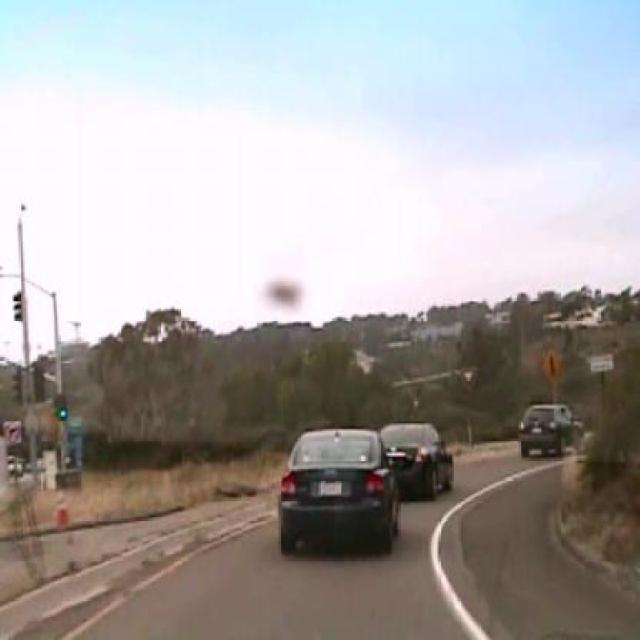merge: (540, 349, 563, 388)
